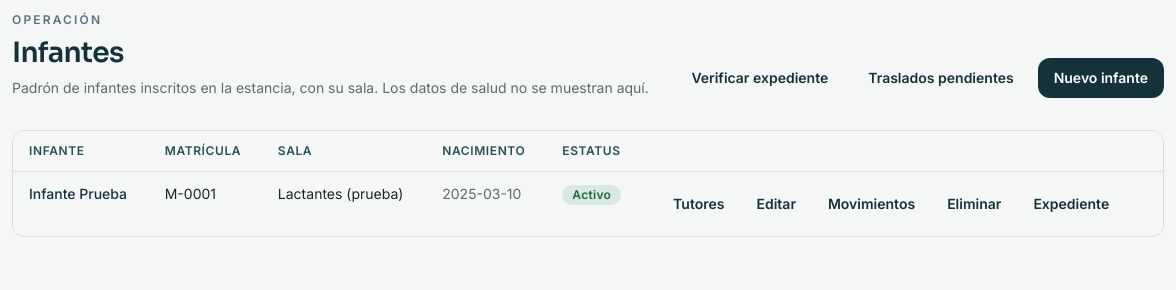
Test: expediente para traslados (RF-19) › avisa si no se pudo generar el expediente
The width and height of the screenshot is (1176, 290).
Click the button with aria-label "Expediente de Infante Prueba" at (1071, 204), box [1017,184,1125,224]
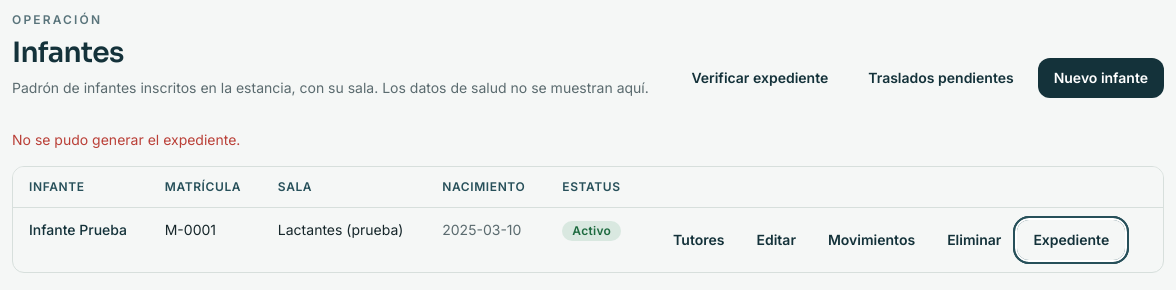
expect the message reads "No se pudo generar el expediente.": met, box [12,131,240,148]
